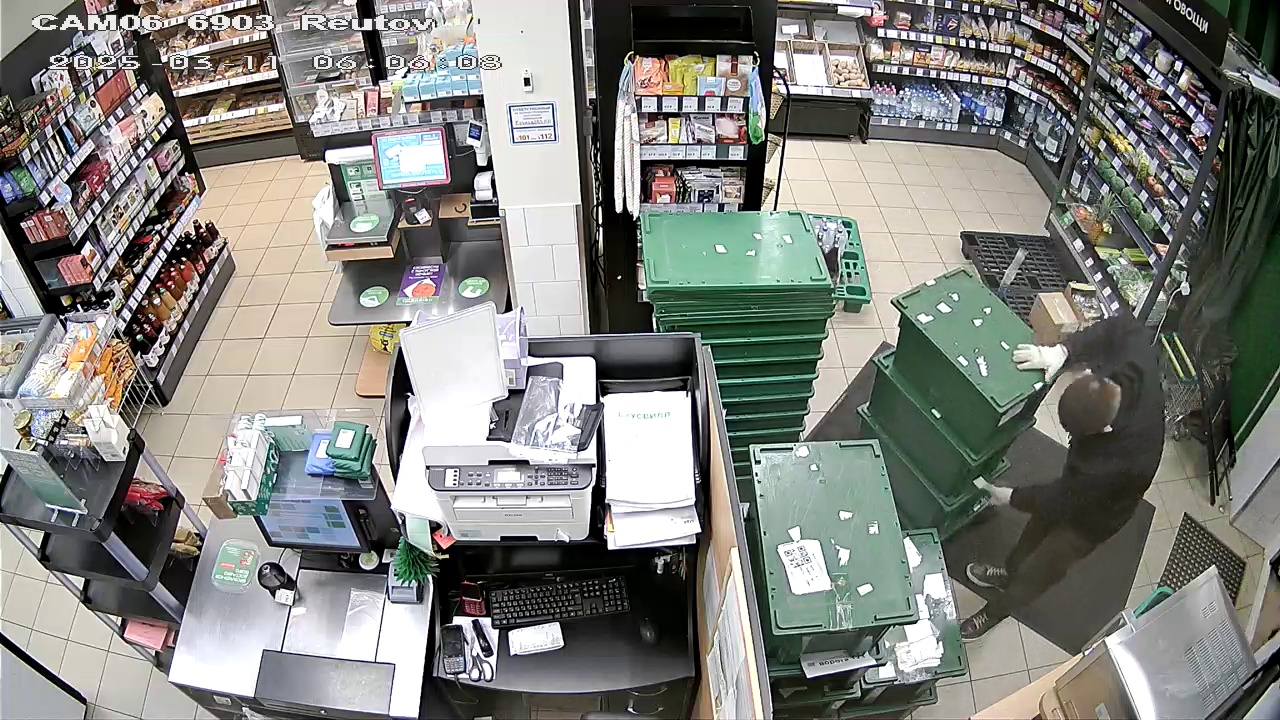Human: (961, 306, 1169, 658)
pallet: (958, 226, 1100, 327)
